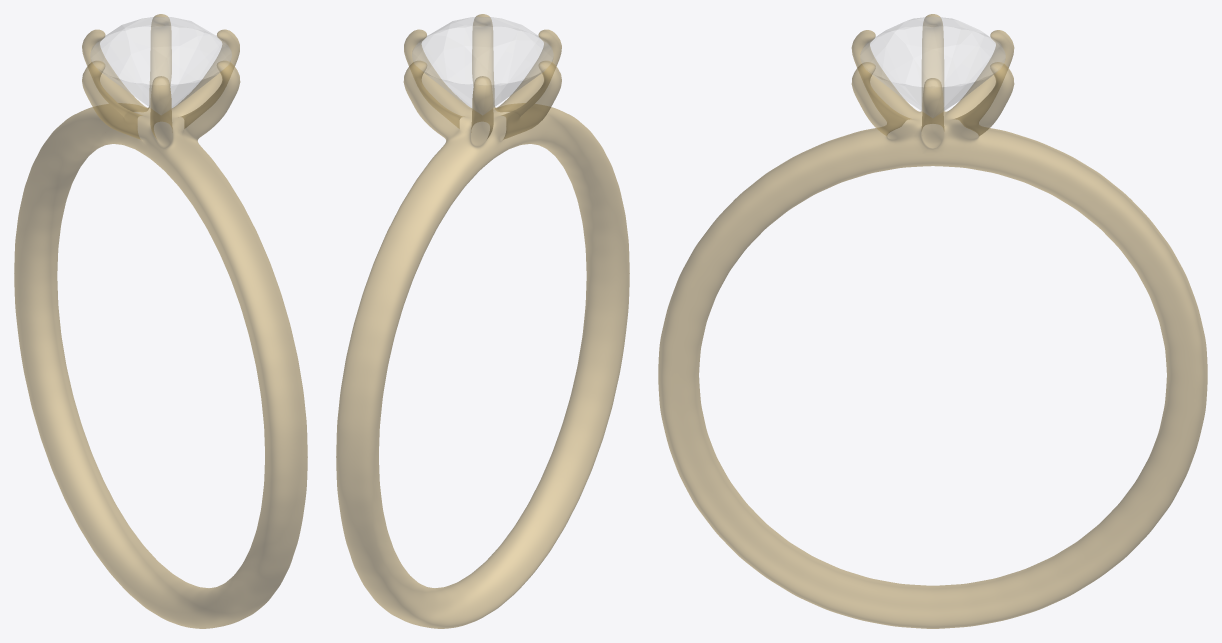
The picture shows the model from 3 angles, left to right: view 1: azimuth 30°, elevation 25°; view 2: azimuth 150°, elevation 25°; view 3: azimuth 270°, elevation 25°; orthographic projection. The views are drawn at different scales.
Parts seen in each view (by area): view 1: Ring, Diamond; view 2: Ring, Diamond; view 3: Ring, Diamond.
Part boxes in pixels (left/top/right/bottom): Ring: left=14, top=14, right=307, bottom=628; Diamond: left=90, top=17, right=231, bottom=114; Ring: left=336, top=14, right=629, bottom=628; Diamond: left=412, top=17, right=553, bottom=114; Ring: left=658, top=14, right=1207, bottom=628; Diamond: left=860, top=16, right=1005, bottom=117.
Size of the model in its own units: 0.7717 by 2.74 by 2.31.
